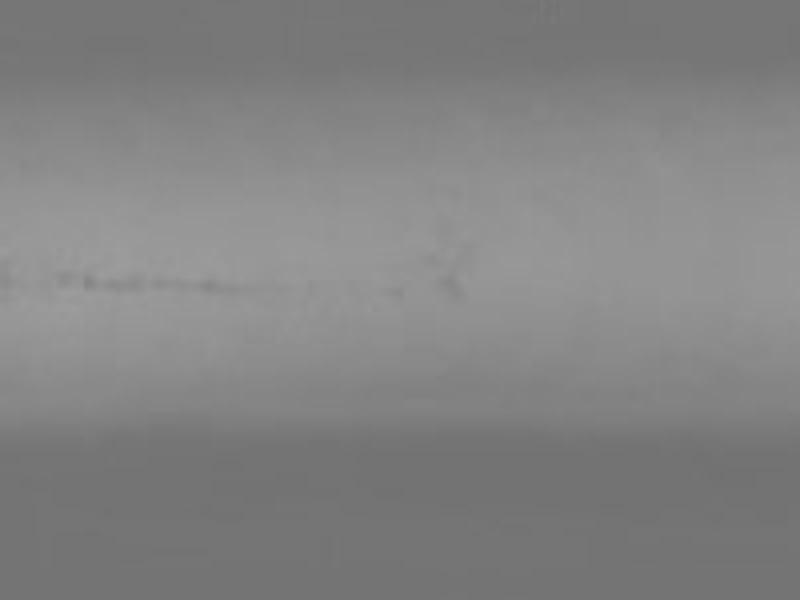defect: (53, 268, 147, 295), (159, 273, 238, 301), (441, 272, 471, 302), (420, 249, 444, 267), (381, 283, 406, 300)
